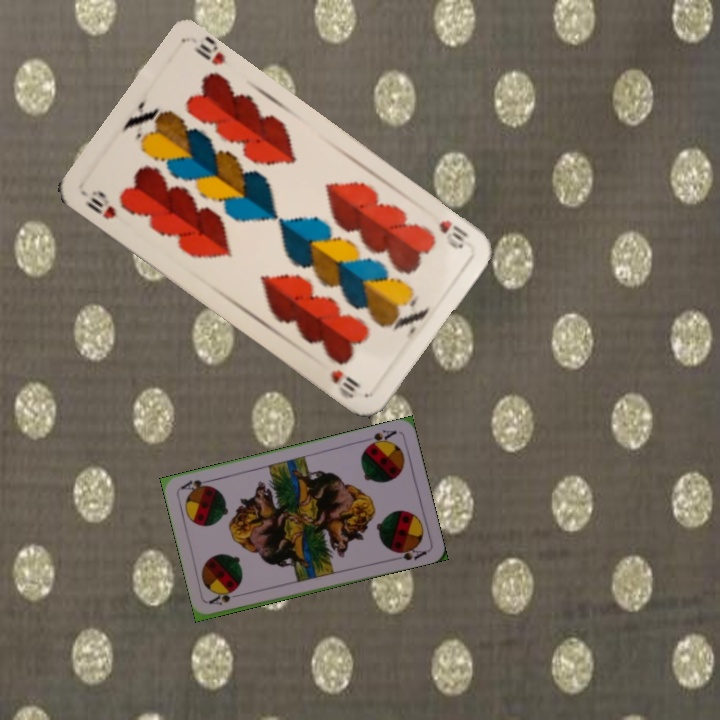H10: (79, 186, 119, 222), (434, 215, 471, 252)
SA: (362, 425, 399, 450), (206, 588, 246, 608)
